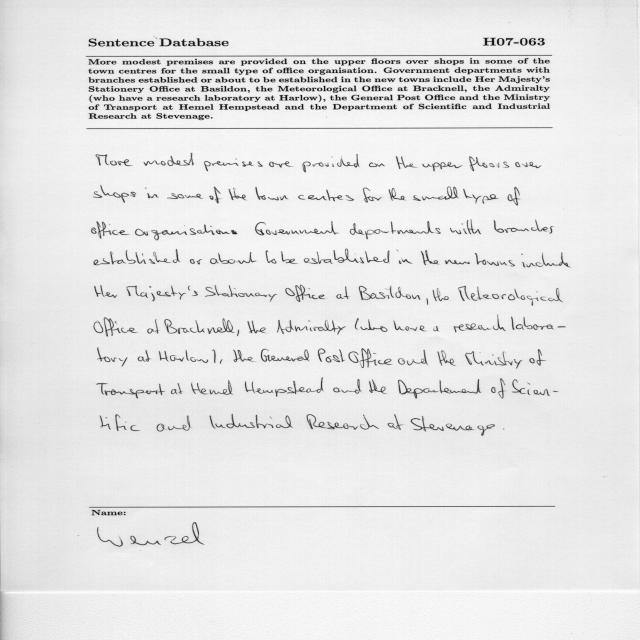word: (458, 286, 563, 306), (411, 416, 495, 436), (398, 379, 481, 399), (350, 221, 441, 239), (135, 225, 237, 240), (245, 378, 323, 397), (94, 249, 180, 265), (304, 249, 389, 264), (205, 285, 277, 302), (307, 414, 380, 430), (210, 414, 293, 428), (164, 318, 235, 334), (126, 286, 198, 301), (465, 351, 523, 369), (277, 320, 346, 335), (303, 154, 360, 172), (266, 221, 339, 235), (97, 383, 165, 398), (454, 315, 506, 332), (349, 348, 393, 368), (359, 286, 420, 300), (94, 318, 138, 337), (494, 220, 553, 234), (512, 379, 558, 396), (93, 185, 136, 203), (511, 316, 566, 330), (204, 159, 263, 172), (521, 253, 571, 268), (100, 414, 141, 431), (413, 186, 459, 201), (92, 221, 130, 239), (286, 285, 326, 302), (143, 153, 194, 166), (159, 350, 208, 363), (261, 349, 310, 362), (191, 380, 233, 395), (298, 190, 354, 201), (469, 157, 509, 172), (157, 416, 192, 432), (210, 252, 256, 264), (98, 348, 127, 367), (463, 189, 498, 204), (475, 253, 515, 266), (450, 220, 481, 235), (398, 350, 428, 365), (96, 154, 133, 166), (333, 379, 362, 394), (255, 187, 288, 200), (318, 349, 345, 363), (394, 321, 427, 332), (423, 162, 463, 171), (361, 319, 388, 332), (491, 378, 506, 399), (529, 349, 546, 366), (95, 285, 117, 298), (363, 188, 382, 203), (437, 351, 456, 366), (396, 156, 417, 169), (421, 250, 439, 265), (233, 350, 254, 362), (388, 414, 403, 430), (369, 380, 386, 394), (247, 321, 266, 333), (397, 250, 413, 264), (389, 188, 406, 201), (167, 193, 203, 199), (229, 188, 247, 200), (508, 187, 520, 205), (281, 251, 297, 264), (433, 288, 449, 301), (209, 187, 221, 204), (147, 319, 159, 334), (337, 287, 350, 300), (269, 161, 293, 168), (515, 162, 542, 168), (138, 350, 151, 362), (145, 188, 159, 199), (266, 251, 277, 264), (171, 383, 182, 395), (255, 222, 265, 235), (444, 260, 470, 264), (369, 163, 385, 167), (190, 259, 202, 264), (355, 319, 359, 330), (213, 350, 216, 363), (433, 326, 439, 331), (220, 360, 223, 365), (237, 330, 239, 336), (427, 298, 428, 305), (503, 429, 505, 430)
